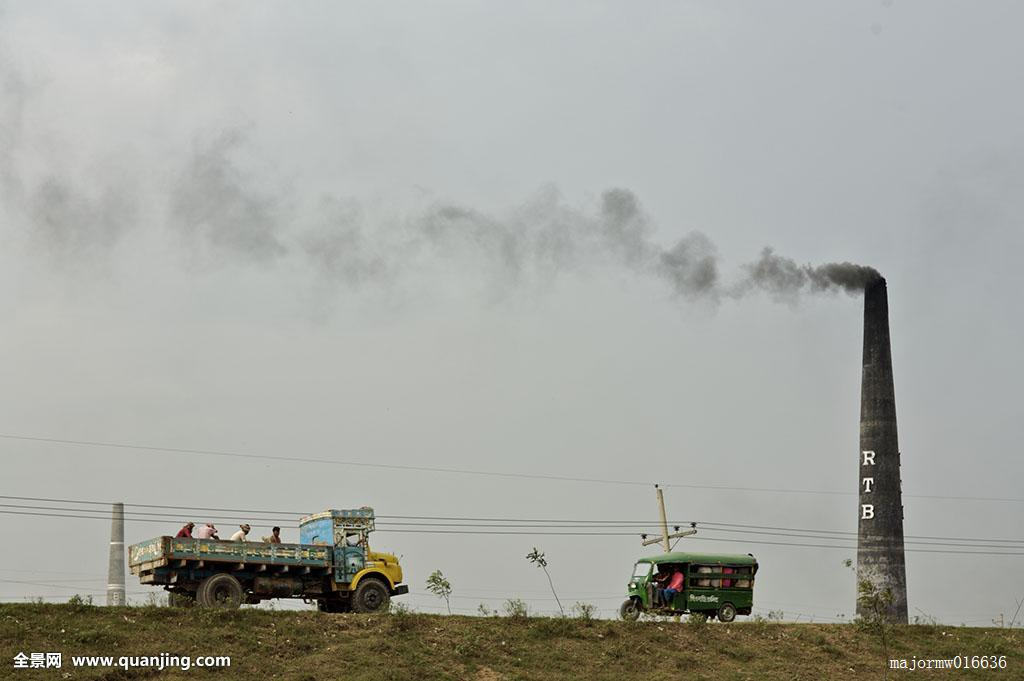dust: (692, 187, 924, 319)
